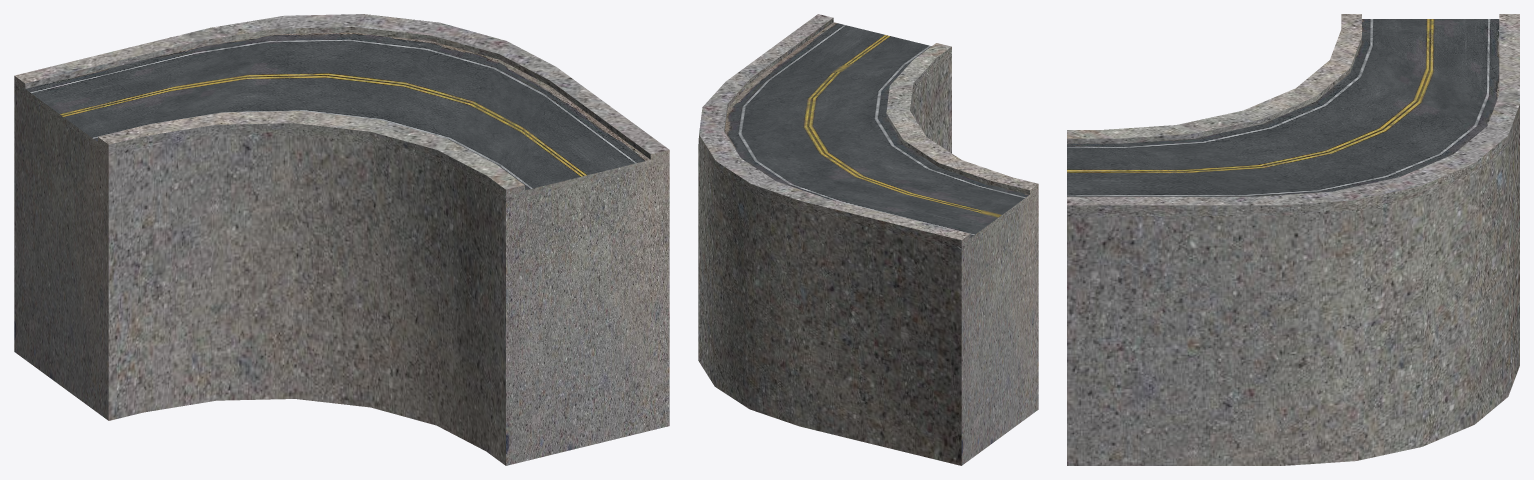
The model's file is rightTurn-Big.fbx.
The picture shows the model from 3 angles, left to right: view 1: azimuth 30°, elevation 25°; view 2: azimuth 150°, elevation 25°; view 3: azimuth 270°, elevation 25°; orthographic projection. The views are drawn at different scales.
Visible parts, largest first — view 1: Plane.013; view 2: Plane.013; view 3: Plane.013.
Part boxes in pixels (left/top/right/bottom): Plane.013: left=14, top=14, right=669, bottom=465; Plane.013: left=698, top=14, right=1038, bottom=465; Plane.013: left=1067, top=14, right=1519, bottom=465.
Bounding box in the file's own units: 3300 × 2096 × 3300.
